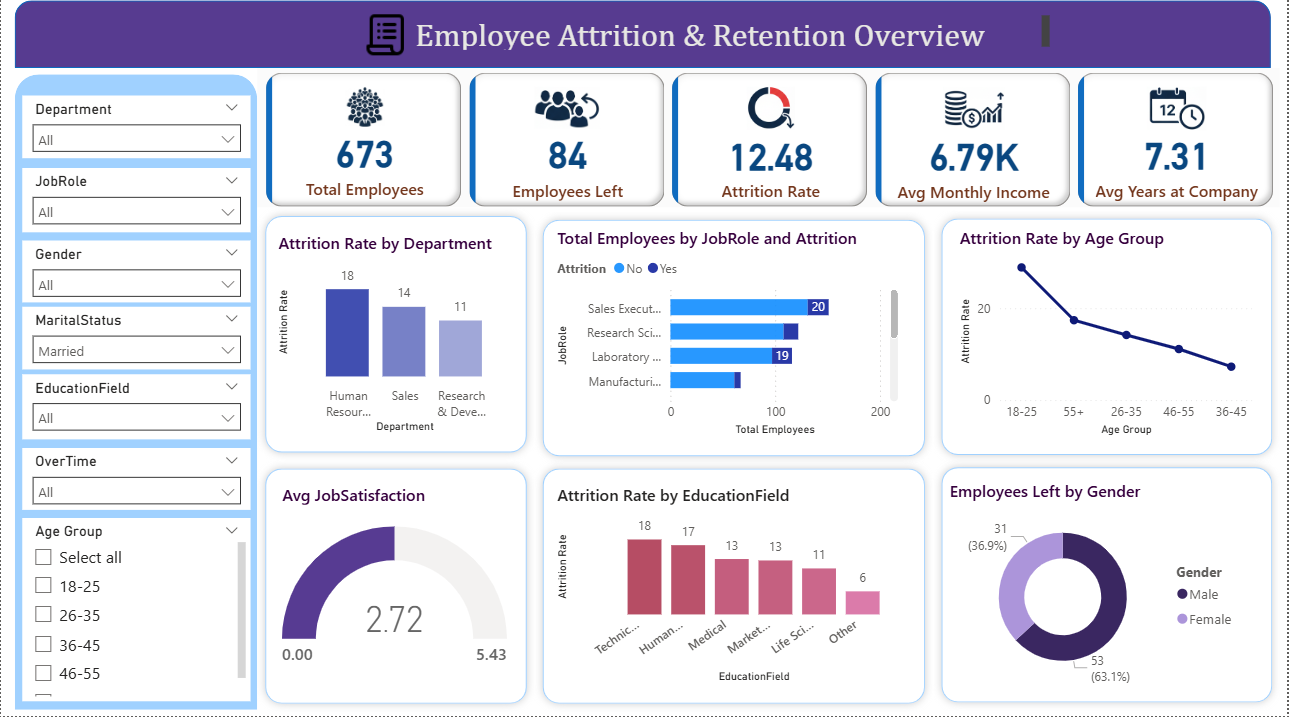

This screenshot's page, from the dashboard's own definition file:
{"tool":"powerbi","page":{"name":"Page 1","canvas":[1280,720],"ordinal":0},"visuals":[{"type":"shape","box":[14.3,7.1,1250,67.1],"z":0},{"type":"cardVisual","fields":{"Data":["Attrition_data.Total Employees","Attrition_data.Employees Left","Attrition_data.Attrition Rate","Attrition_data.Avg Monthly Income","Attrition_data.Avg Years at Company"]},"box":[255,75,1017.5,138.8],"z":1000},{"type":"textbox","box":[364.3,21.4,602.9,122.9],"z":2000},{"type":"shape","box":[255,213.8,276.2,251.2],"z":3000},{"type":"shape","box":[531.2,465,396.2,250],"z":4000},{"type":"shape","box":[255,465,276.2,250],"z":5000},{"type":"shape","box":[531.2,217.5,396.2,251.2],"z":6000},{"type":"shape","box":[927.5,216.2,345,251.2],"z":7000},{"type":"shape","box":[927.5,463.8,345,250],"z":8000},{"type":"columnChart","fields":{"Category":["Attrition_data.Department"],"Y":["Attrition_data.Attrition Rate"]},"box":[271.2,237.5,237.5,205],"z":9000},{"type":"donutChart","fields":{"Category":["Attrition_data.Gender"],"Y":["Attrition_data.Employees Left"]},"box":[939.2,483.5,301.3,212.7],"z":10000},{"type":"lineChart","fields":{"Y":["Attrition_data.Attrition Rate"],"Category":["Attrition_data.Age Group"]},"box":[948.8,232.5,301.2,212.5],"z":11000},{"type":"clusteredColumnChart","fields":{"Category":["Attrition_data.EducationField"],"Y":["Attrition_data.Attrition Rate"]},"box":[548.1,487.3,349.4,203.8],"z":12000},{"type":"gauge","fields":{"Y":["Attrition_data.Avg JobSatisfaction"]},"box":[275,487.5,233.8,208.8],"z":13000},{"type":"slicer","fields":{"Values":["Attrition_data.JobRole"]},"box":[558.8,338.8,218.8,62.5],"z":14000},{"type":"barChart","fields":{"Category":["Attrition_data.JobRole"],"Series":["Attrition_data.Attrition"],"Y":["Attrition_data.Total Employees"]},"box":[548.1,232.9,349.4,212.7],"z":15000},{"type":"image","box":[349.4,11.4,68.4,60.8],"z":16000},{"type":"textbox","box":[407.1,17.1,641.4,44.3],"z":17000},{"type":"shape","box":[13.8,81.2,241.2,632.5],"z":18000},{"type":"slicer","fields":{"Values":["Attrition_data.Department"]},"box":[21.2,102.5,227.5,62.5],"z":19000},{"type":"slicer","fields":{"Values":["Attrition_data.JobRole"]},"box":[21.2,173.8,227.5,63.8],"z":20000},{"type":"slicer","fields":{"Values":["Attrition_data.Gender"]},"box":[21.2,246.2,227.5,61.2],"z":21000},{"type":"slicer","fields":{"Values":["Attrition_data.MaritalStatus"]},"box":[21.2,312.5,227.5,62.5],"z":22000},{"type":"slicer","fields":{"Values":["Attrition_data.EducationField"]},"box":[21.2,380,227.5,65],"z":23000},{"type":"slicer","fields":{"Values":["Attrition_data.OverTime"]},"box":[21.2,452.5,227.5,61.2],"z":24000},{"type":"slicer","fields":{"Values":["Attrition_data.Age Group"]},"box":[21.2,522.5,227.5,182.5],"z":25000}]}

Visuals, with their boxes in screenshot pixels (x1, y1, x2, y2):
shape: 11,0,1283,65
cardVisual - Attrition_data.Total Employees x Attrition_data.Employees Left: 256,66,1291,207
textbox: 367,11,980,136
shape: 256,207,537,463
shape: 537,463,940,716
shape: 256,463,537,716
shape: 537,211,940,466
shape: 940,210,1291,465
shape: 940,461,1291,716
columnChart - Attrition_data.Department x Attrition_data.Attrition Rate: 272,231,514,440
donutChart - Attrition_data.Gender x Attrition_data.Employees Left: 952,481,1258,698
lineChart - Attrition_data.Attrition Rate x Attrition_data.Age Group: 962,226,1268,442
clusteredColumnChart - Attrition_data.EducationField x Attrition_data.Attrition Rate: 554,485,909,693
gauge - Attrition_data.Avg JobSatisfaction: 276,486,514,698
slicer - Attrition_data.JobRole: 565,334,787,398
barChart - Attrition_data.JobRole x Attrition_data.Attrition: 554,227,909,443
image: 352,1,422,63
textbox: 411,7,1063,52
shape: 11,72,256,716
slicer - Attrition_data.Department: 18,94,250,158
slicer - Attrition_data.JobRole: 18,166,250,231
slicer - Attrition_data.Gender: 18,240,250,302
slicer - Attrition_data.MaritalStatus: 18,308,250,371
slicer - Attrition_data.EducationField: 18,376,250,442
slicer - Attrition_data.OverTime: 18,450,250,512
slicer - Attrition_data.Age Group: 18,521,250,707
